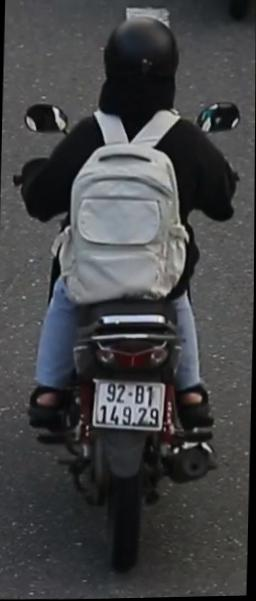LP: (88, 373, 169, 436)
helmet: (105, 15, 181, 100)
